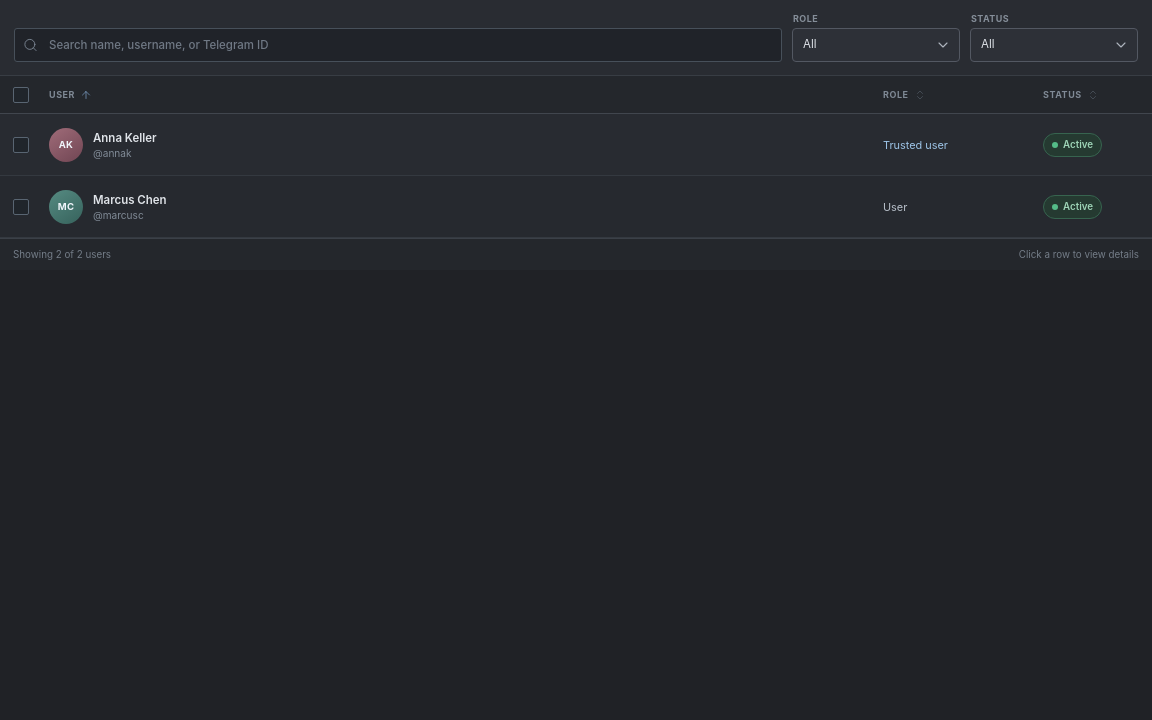
Test: UsersPage › applies a bulk status change to selected users
The width and height of the screenshot is (1152, 720).
Click the checkbox named "Select Anna Keller": coordinates (21, 144) [13, 136, 29, 152]
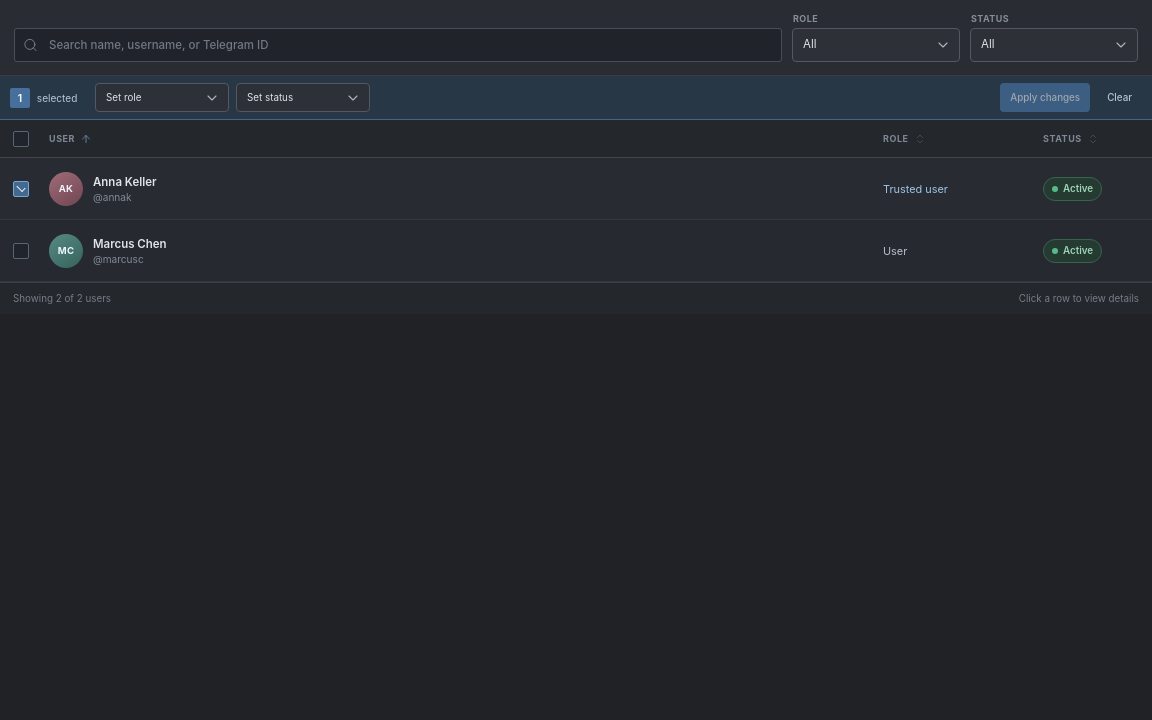
Click the dropdown named "Bulk status": coordinates (303, 98) [236, 83, 370, 112]
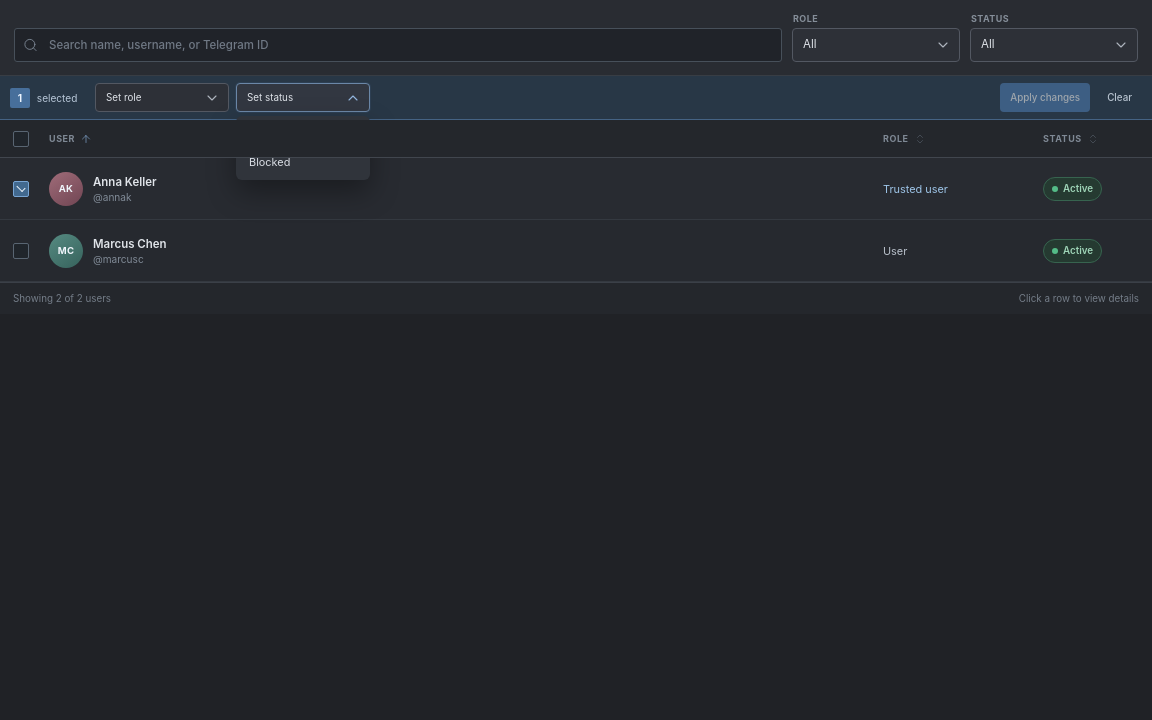
Click the option "Blocked": coordinates (303, 162) [240, 148, 366, 176]
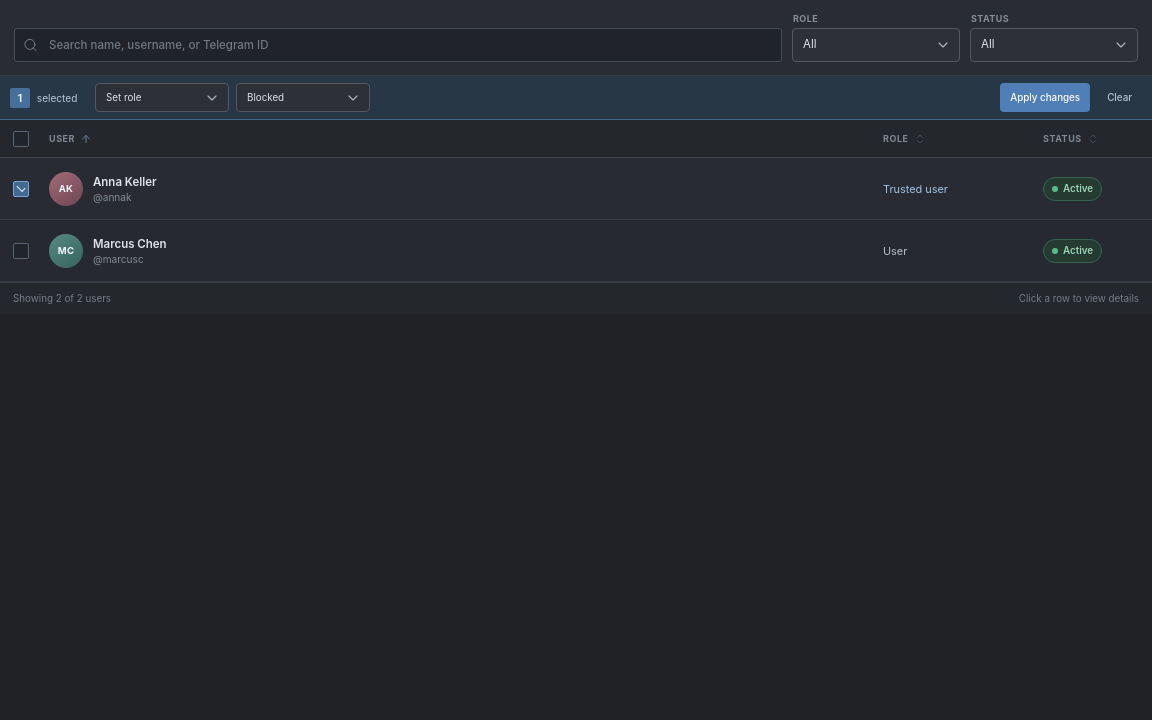
Click the button "Apply changes": coordinates (1045, 98) [1000, 83, 1090, 112]
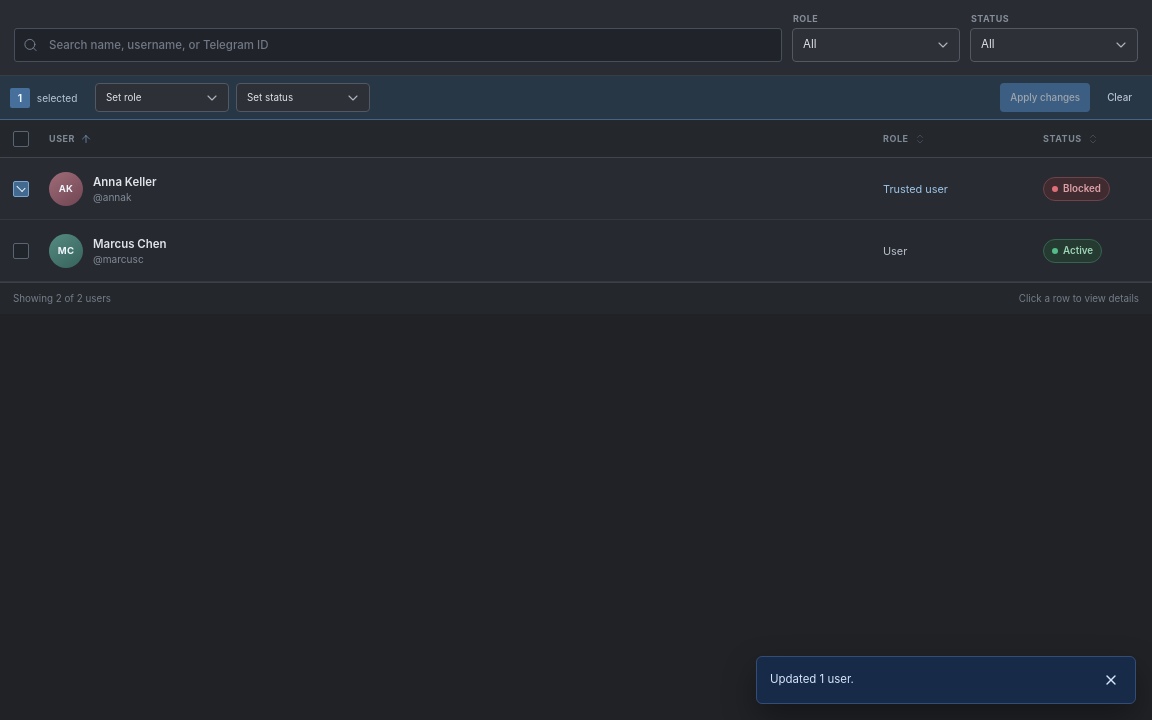
Expected: the text "Anna Keller" is shown, [93, 174, 157, 188]
Result: the text "Blocked" is shown at [1043, 176, 1110, 200]
Result: the message reads "Updated 1 user." at [770, 672, 854, 686]
